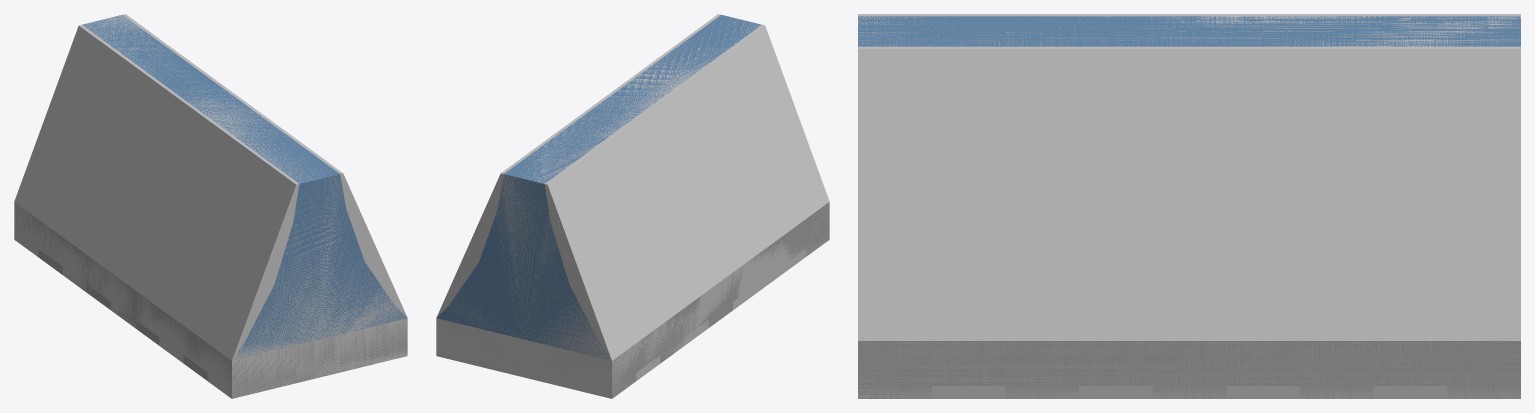
Rendered from SM_PavementBarriers_08.fbx.
The picture shows the model from 3 angles, left to right: view 1: azimuth 30°, elevation 25°; view 2: azimuth 150°, elevation 25°; view 3: azimuth 270°, elevation 25°; orthographic projection. The views are drawn at different scales.
Visible parts, largest first — view 1: SM_PavementBarriers_08_ConvexHulls, SM_PavementBarriers_08; view 2: SM_PavementBarriers_08_ConvexHulls, SM_PavementBarriers_08; view 3: SM_PavementBarriers_08_ConvexHulls, SM_PavementBarriers_08.
Boxes of the visible parts, x1,y1,x2,y2 form: SM_PavementBarriers_08_ConvexHulls: (14,14,407,398); SM_PavementBarriers_08: (14,15,407,398); SM_PavementBarriers_08_ConvexHulls: (436,14,829,398); SM_PavementBarriers_08: (436,15,829,398); SM_PavementBarriers_08_ConvexHulls: (858,14,1520,398); SM_PavementBarriers_08: (858,16,1520,398).
Bounding box in the file's own units: 66.81 × 143 × 72.08.
Materials: 2 (1 with a texture image).
